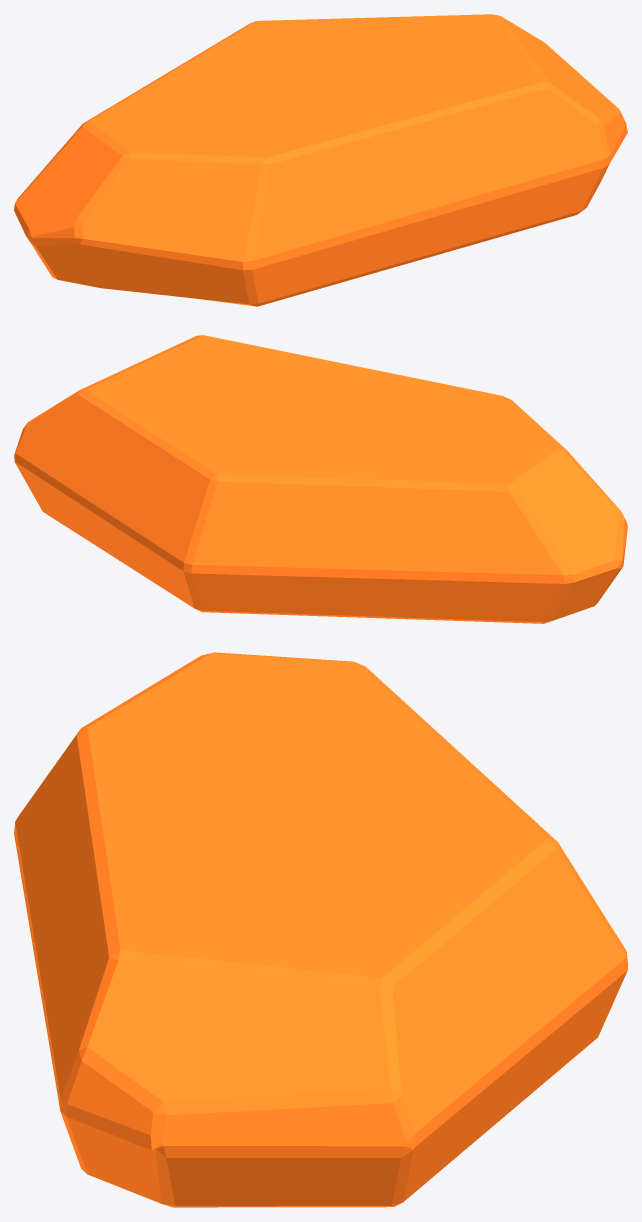
The model's file is crystal_shard_01.glb.
3 renders of one model, top to bottom at view 1: azimuth 30°, elevation 25°; view 2: azimuth 150°, elevation 25°; view 3: azimuth 270°, elevation 25°, orthographic. The views are drawn at different scales.
Parts seen in each view (by area): view 1: crystal_shard_01; view 2: crystal_shard_01; view 3: crystal_shard_01.
Part boxes in pixels (left/top/right/bottom): crystal_shard_01: left=14, top=14, right=627, bottom=306; crystal_shard_01: left=14, top=335, right=627, bottom=623; crystal_shard_01: left=14, top=652, right=627, bottom=1207.
Size of the model in its own units: 0.5 by 0.1132 by 0.3014.
